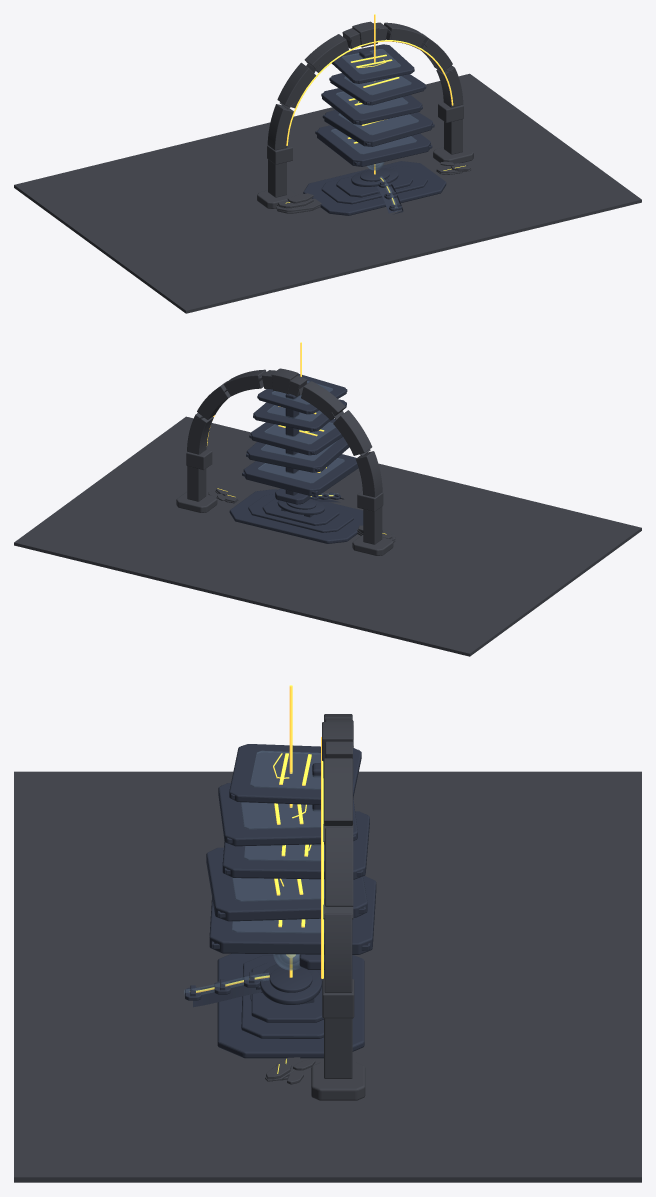
File: hero-delivery-system.glb
3 views of the same model, one above another, from view 1: azimuth 30°, elevation 25°; view 2: azimuth 150°, elevation 25°; view 3: azimuth 270°, elevation 25° (orthographic). The views are drawn at different scales.
Visible parts, largest first — view 1: CMP_Context_Ground, CMP_Layers_B_05_BasaltCarrier, CMP_Pedestal_B_LowDeck, CMP_Layers_B_04_BasaltCarrier, CMP_Layers_B_01_BasaltCarrier, CMP_Layers_B_03_BasaltCarrier, CMP_Layers_B_02_BasaltCarrier, CMP_Pedestal_B_InnerDeck, CMP_Arch_B_Module_07, CMP_Arch_B_Module_06, CMP_Arch_B_Module_08, CMP_Pedestal_B_LoadPlate (+13 smaller); view 2: CMP_Context_Ground, CMP_Layers_B_05_BasaltCarrier, CMP_Pedestal_B_LowDeck, CMP_Layers_B_03_BasaltCarrier, CMP_Layers_B_04_BasaltCarrier, CMP_Layers_B_02_BasaltCarrier, CMP_Layers_B_01_BasaltCarrier, CMP_Pedestal_B_InnerDeck, CMP_Arch_B_Module_07, CMP_Arch_B_Module_06, CMP_Arch_B_Module_08, CMP_Pedestal_B_LoadPlate (+11 smaller); view 3: CMP_Context_Ground, CMP_Layers_B_04_BasaltCarrier, CMP_Layers_B_01_BasaltCarrier, CMP_Layers_B_05_BasaltCarrier, CMP_Pedestal_B_LowDeck, CMP_Layers_B_02_BasaltCarrier, CMP_Layers_B_03_BasaltCarrier, CMP_Arch_B_Module_03, CMP_Arch_B_Module_02, CMP_Pedestal_B_InnerDeck, CMP_Layers_B_01_InsetWindow, CMP_Arch_B_Module_04 (+12 smaller).
Boxes of the visible parts, x1=… form: CMP_Context_Ground: x1=14, y1=73, x2=641, y2=313; CMP_Layers_B_05_BasaltCarrier: x1=317, y1=125, x2=430, y2=166; CMP_Pedestal_B_LowDeck: x1=303, y1=161, x2=446, y2=215; CMP_Layers_B_04_BasaltCarrier: x1=324, y1=110, x2=432, y2=146; CMP_Layers_B_01_BasaltCarrier: x1=331, y1=44, x2=414, y2=83; CMP_Layers_B_03_BasaltCarrier: x1=322, y1=88, x2=422, y2=124; CMP_Layers_B_02_BasaltCarrier: x1=330, y1=73, x2=425, y2=105; CMP_Pedestal_B_InnerDeck: x1=321, y1=165, x2=427, y2=204; CMP_Arch_B_Module_07: x1=277, y1=62, x2=315, y2=108; CMP_Arch_B_Module_06: x1=304, y1=34, x2=348, y2=72; CMP_Arch_B_Module_08: x1=267, y1=104, x2=293, y2=150; CMP_Pedestal_B_LoadPlate: x1=336, y1=167, x2=412, y2=197; CMP_Context_Ground: x1=14, y1=416, x2=641, y2=656; CMP_Layers_B_05_BasaltCarrier: x1=243, y1=454, x2=358, y2=495; CMP_Pedestal_B_LowDeck: x1=229, y1=489, x2=363, y2=543; CMP_Layers_B_03_BasaltCarrier: x1=250, y1=418, x2=342, y2=455; CMP_Layers_B_04_BasaltCarrier: x1=246, y1=437, x2=349, y2=472; CMP_Layers_B_02_BasaltCarrier: x1=253, y1=399, x2=346, y2=431; CMP_Layers_B_01_BasaltCarrier: x1=258, y1=374, x2=346, y2=414; CMP_Pedestal_B_InnerDeck: x1=248, y1=494, x2=353, y2=532; CMP_Arch_B_Module_07: x1=333, y1=410, x2=372, y2=455; CMP_Arch_B_Module_06: x1=301, y1=381, x2=345, y2=420; CMP_Arch_B_Module_08: x1=355, y1=451, x2=382, y2=497; CMP_Pedestal_B_LoadPlate: x1=262, y1=498, x2=339, y2=525; CMP_Context_Ground: x1=14, y1=771, x2=641, y2=1182; CMP_Layers_B_04_BasaltCarrier: x1=206, y1=847, x2=367, y2=921; CMP_Layers_B_01_BasaltCarrier: x1=229, y1=744, x2=361, y2=804; CMP_Layers_B_05_BasaltCarrier: x1=209, y1=876, x2=376, y2=954; CMP_Pedestal_B_LowDeck: x1=217, y1=953, x2=364, y2=1058; CMP_Layers_B_02_BasaltCarrier: x1=218, y1=783, x2=357, y2=846; CMP_Layers_B_03_BasaltCarrier: x1=222, y1=811, x2=369, y2=879; CMP_Arch_B_Module_03: x1=325, y1=827, x2=353, y2=906; CMP_Arch_B_Module_02: x1=324, y1=913, x2=352, y2=992; CMP_Pedestal_B_InnerDeck: x1=241, y1=955, x2=323, y2=1038; CMP_Layers_B_01_InsetWindow: x1=250, y1=750, x2=320, y2=789; CMP_Arch_B_Module_04: x1=323, y1=758, x2=352, y2=825.
Bounding box in the file's own units: 26 × 9.76 × 17.
